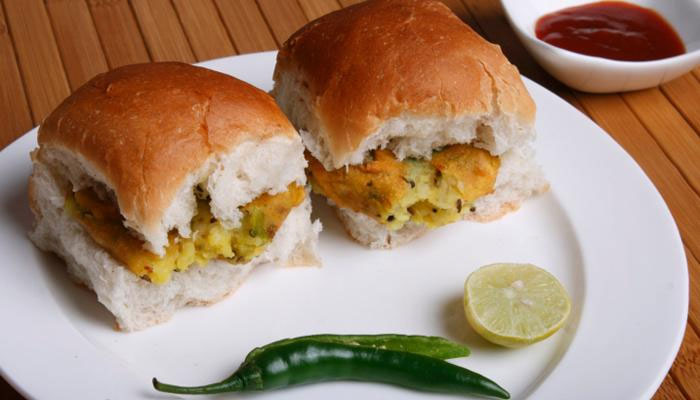vada pav: (73, 92, 262, 295), (346, 24, 471, 221)
